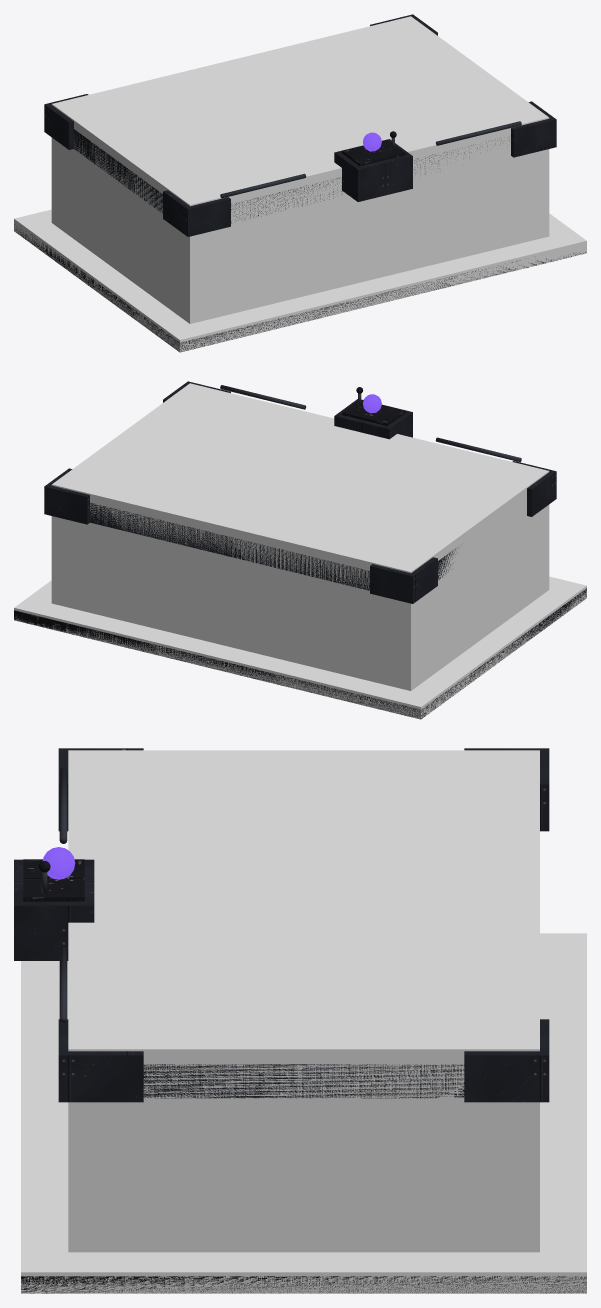
The model's file is Furn_HoloTable.gltf.
3 views of the same model, one above another, from view 1: azimuth 30°, elevation 25°; view 2: azimuth 150°, elevation 25°; view 3: azimuth 270°, elevation 25° (orthographic). The views are drawn at different scales.
Visible parts, largest first — view 1: Furn_HoloTable_COL, Furn_HoloTable_COL1, Furn_HoloTable; view 2: Furn_HoloTable_COL, Furn_HoloTable, Furn_HoloTable_COL1; view 3: Furn_HoloTable_COL, Furn_HoloTable_COL1, Furn_HoloTable.
Boxes of the visible parts, x1,y1,x2,y2 form: Furn_HoloTable_COL: [51, 16, 549, 323]; Furn_HoloTable_COL1: [14, 209, 586, 352]; Furn_HoloTable: [14, 14, 586, 352]; Furn_HoloTable_COL: [51, 383, 549, 690]; Furn_HoloTable: [14, 381, 586, 718]; Furn_HoloTable_COL1: [14, 576, 586, 719]; Furn_HoloTable_COL: [68, 750, 539, 1252]; Furn_HoloTable_COL1: [21, 933, 586, 1293]; Furn_HoloTable: [14, 748, 586, 1293].
Bounding box in the file's own units: 3.4 × 1.3 × 2.43.
5 materials, 2 textured.
